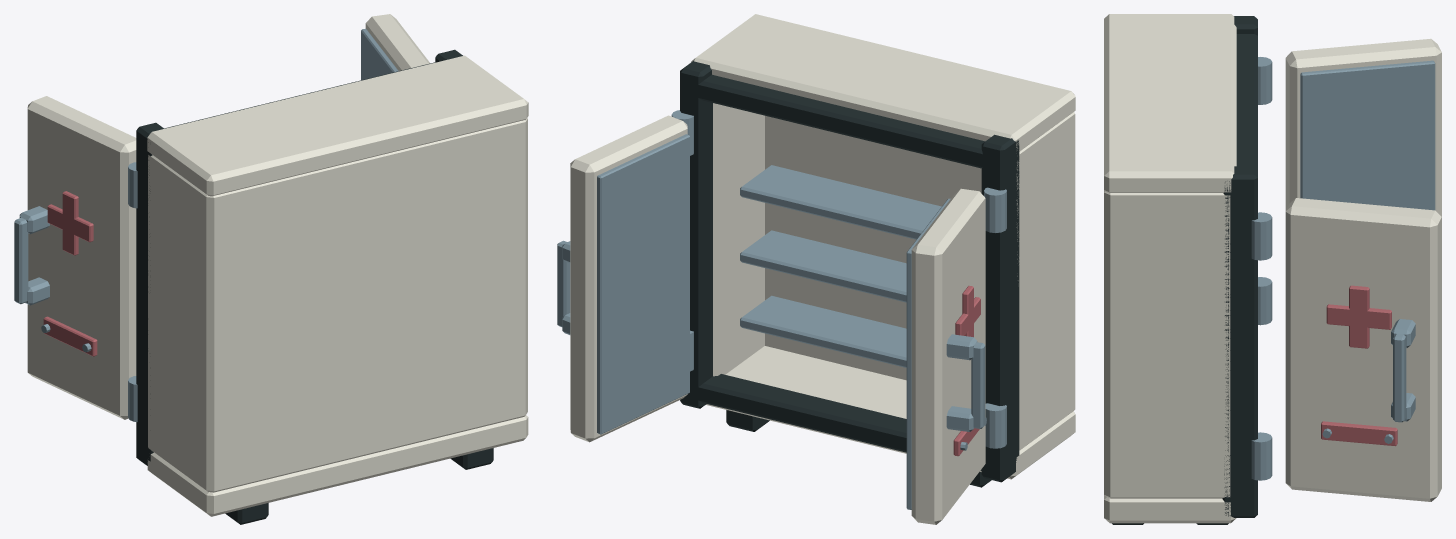
File: wall_emergency_supply_cabinet_opened.glb
3 views of the same model, side by side, from view 1: azimuth 30°, elevation 25°; view 2: azimuth 150°, elevation 25°; view 3: azimuth 270°, elevation 25° (orthographic). The views are drawn at different scales.
Visible parts, largest first — view 1: body_back_wall, body_side_wall (×2), moving_left_door, body_roof, body_floor, front_side_frame, moving_right_door, moving_left_handle_grip, moving_right_inner_panel, moving_left_first_aid_plate, moving_left_medical_vertical, moving_left_medical_horizontal; view 2: body_side_wall (×2), moving_right_inner_panel, body_roof, body_back_wall, interior_shelf (×3), moving_left_door, front_side_frame (×2), front_cross_frame (×2), moving_right_door, body_floor, hinge_pin (×2), moving_left_inner_panel (+3 smaller); view 3: moving_right_door, body_side_wall, body_roof, moving_left_inner_panel, front_side_frame (×2), moving_left_door, hinge_pin (×4), body_floor, front_cross_frame, body_back_wall, moving_right_first_aid_plate, moving_right_medical_vertical (+3 smaller).
Part boxes in pixels (bbox=[...]): body_back_wall: bbox=[197, 120, 525, 492]; body_side_wall (×2): bbox=[148, 118, 527, 492]; moving_left_door: bbox=[27, 96, 136, 419]; body_roof: bbox=[147, 55, 528, 196]; body_floor: bbox=[147, 415, 528, 516]; front_side_frame: bbox=[136, 122, 163, 465]; moving_right_door: bbox=[365, 14, 430, 70]; moving_left_handle_grip: bbox=[14, 217, 28, 304]; moving_right_inner_panel: bbox=[361, 29, 398, 80]; moving_left_first_aid_plate: bbox=[43, 316, 97, 356]; moving_left_medical_vertical: bbox=[62, 191, 78, 255]; moving_left_medical_horizontal: bbox=[47, 204, 93, 242]; body_side_wall (×2): bbox=[713, 103, 1075, 450]; moving_right_inner_panel: bbox=[597, 134, 689, 434]; body_roof: bbox=[691, 14, 1075, 151]; body_back_wall: bbox=[765, 112, 1075, 416]; interior_shelf (×3): bbox=[740, 165, 941, 367]; moving_left_door: bbox=[911, 188, 985, 524]; front_side_frame (×2): bbox=[680, 60, 1019, 482]; front_cross_frame (×2): bbox=[680, 74, 1019, 470]; moving_right_door: bbox=[570, 115, 687, 442]; body_floor: bbox=[706, 346, 1075, 479]; hinge_pin (×2): bbox=[984, 187, 1006, 448]; moving_left_inner_panel: bbox=[906, 198, 950, 509]; moving_right_door: bbox=[1285, 198, 1441, 501]; body_side_wall: bbox=[1104, 190, 1230, 498]; body_roof: bbox=[1104, 14, 1236, 193]; moving_left_inner_panel: bbox=[1300, 60, 1435, 210]; front_side_frame (×2): bbox=[1223, 16, 1257, 517]; moving_left_door: bbox=[1285, 38, 1441, 216]; hinge_pin (×4): bbox=[1251, 57, 1272, 480]; body_floor: bbox=[1104, 495, 1236, 523]; front_cross_frame: bbox=[1224, 34, 1257, 200]; body_back_wall: bbox=[1104, 190, 1128, 498]; moving_right_first_aid_plate: bbox=[1321, 421, 1397, 446]; moving_right_medical_vertical: bbox=[1349, 285, 1369, 348].
Bounding box in the file's own units: 1.36 × 1.11 × 0.9179.
